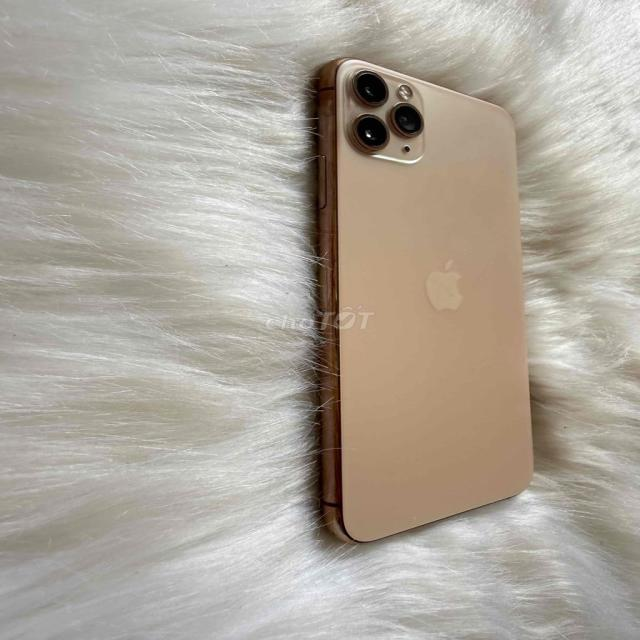gen_11: (298, 52, 552, 547)
